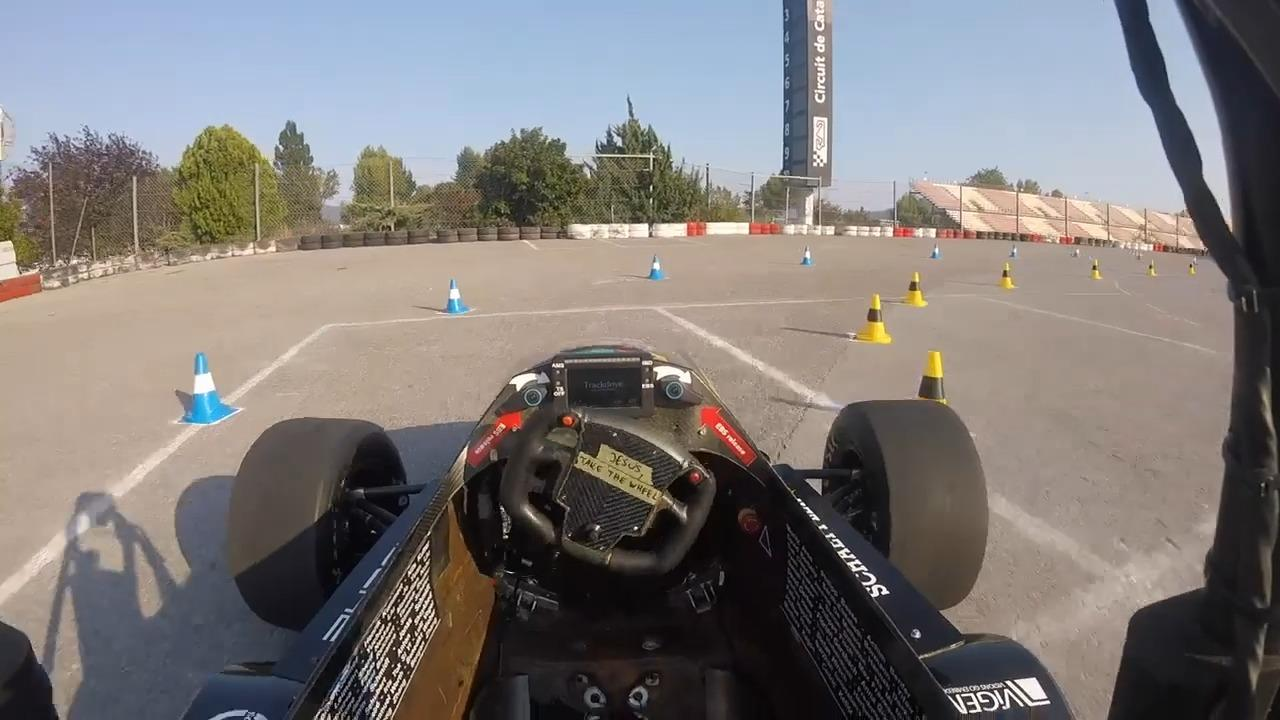blue_cone: (181, 350, 238, 427), (439, 279, 468, 317), (647, 254, 665, 280), (799, 246, 814, 268), (930, 243, 942, 261), (1008, 243, 1019, 258), (1073, 247, 1082, 257)
yellow_cone: (896, 348, 977, 466), (855, 295, 893, 343), (906, 271, 928, 308), (999, 262, 1018, 291), (1090, 259, 1102, 281), (1146, 260, 1157, 277), (1188, 262, 1196, 275)
